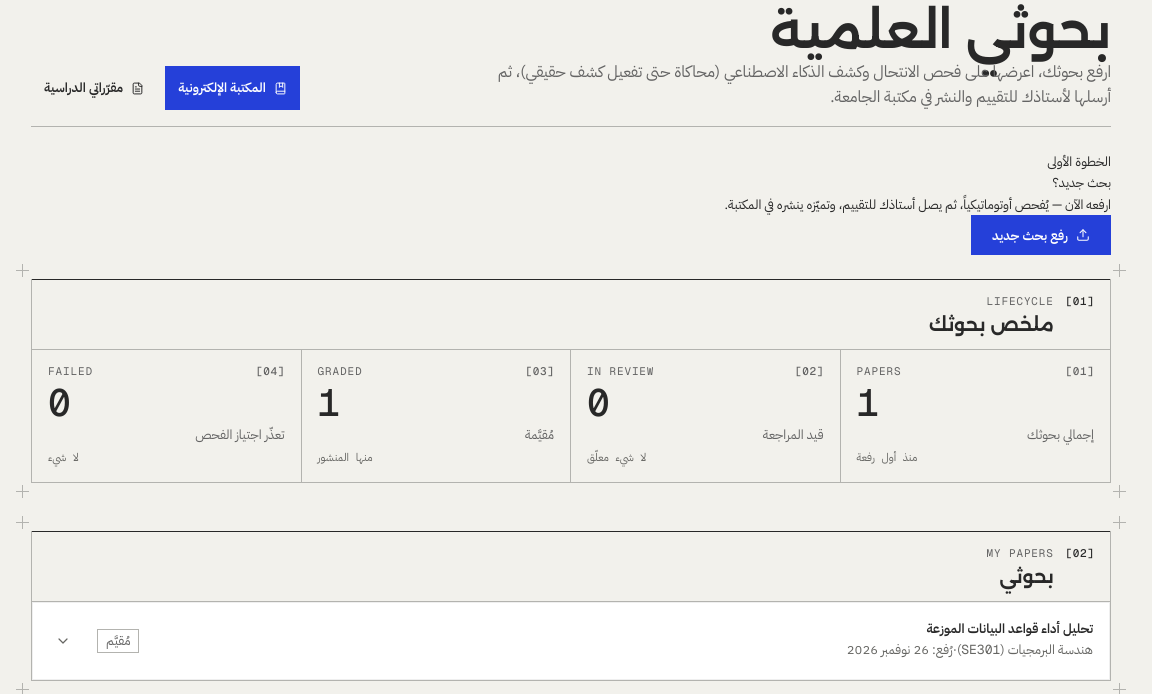
StudentResearchPage — reviewer identity (R305-A7 regression) › a graded paper WITHOUT a reviewer invents nothing — the label stands alone
Click the button named "تفاصيل البحث: تحليل أداء قواعد البيانات الموزعة" at point(63, 641), box [41,619,85,663]
(page scrolled)
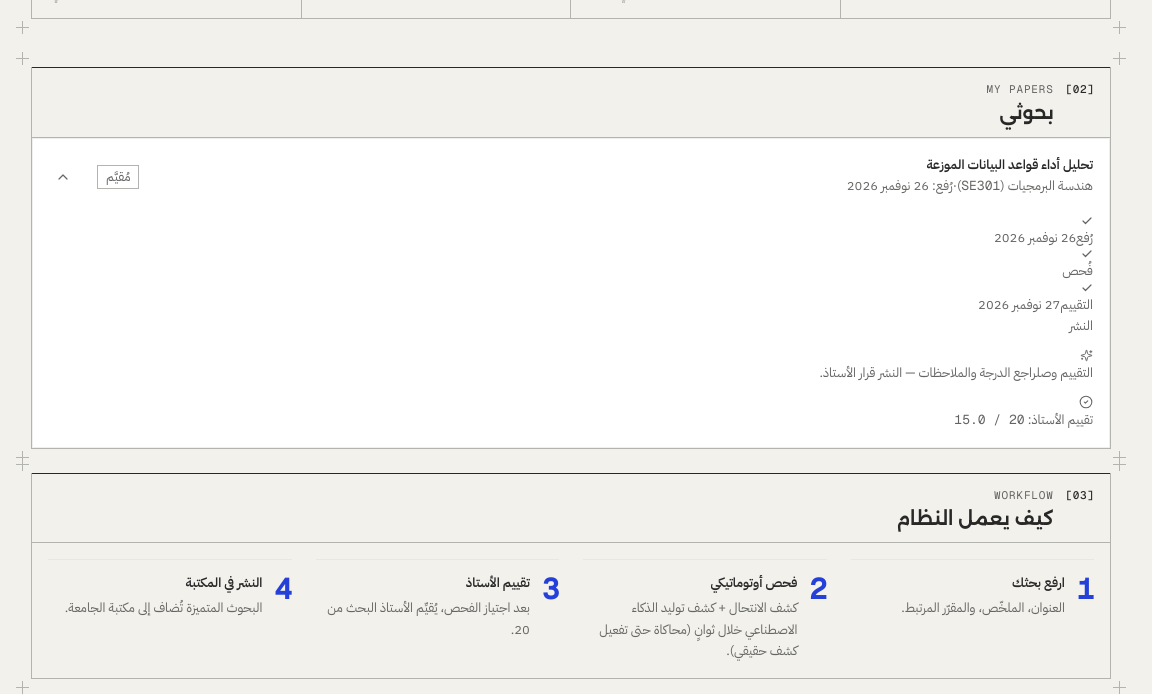
Check: the element with class "rs-row-grade-head" shows "تقييم الأستاذ:", box [1025,410,1093,429]
